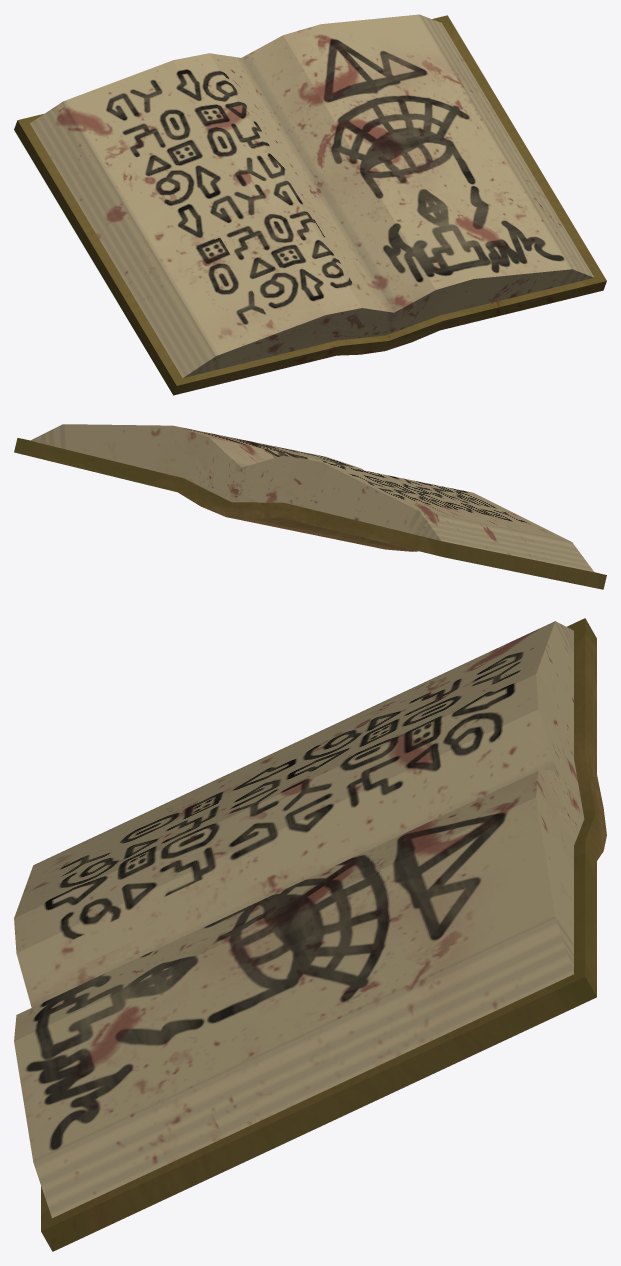
File: book_open.fbx
3 views of the same model, one above another, from view 1: azimuth 30°, elevation 25°; view 2: azimuth 150°, elevation 25°; view 3: azimuth 270°, elevation 25° (orthographic). The views are drawn at different scales.
Visible parts, largest first — view 1: pCube161; view 2: pCube161; view 3: pCube161.
Part boxes in pixels (bbox=[...]): pCube161: bbox=[14, 14, 606, 395]; pCube161: bbox=[14, 424, 606, 589]; pCube161: bbox=[14, 618, 606, 1251].
Size of the model in its own units: 69.43 by 48.52 by 31.99.
